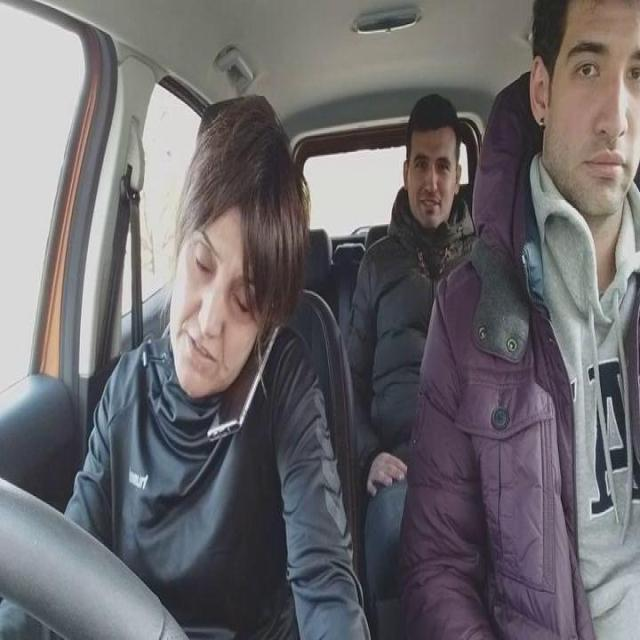phone: (207, 316, 280, 442)
